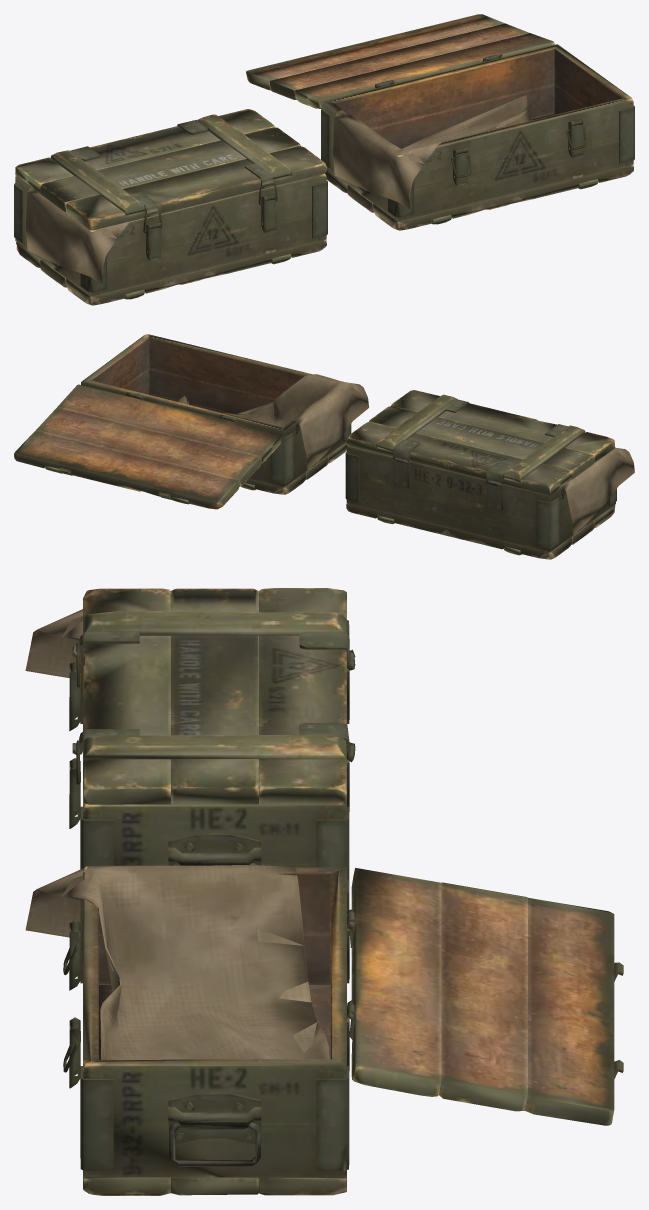
The model's file is scene-military-crate.glb.
3 views of the same model, one above another, from view 1: azimuth 30°, elevation 25°; view 2: azimuth 150°, elevation 25°; view 3: azimuth 270°, elevation 25° (orthographic). The views are drawn at different scales.
Visible parts, largest first — view 1: old_military_crate_lid_a; view 2: old_military_crate_lid_a; view 3: old_military_crate_lid_a.
Boxes of the visible parts, bbox=[...] form: old_military_crate_lid_a: bbox=[14, 14, 634, 305]; old_military_crate_lid_a: bbox=[14, 334, 634, 559]; old_military_crate_lid_a: bbox=[25, 588, 623, 1195].
Size of the model in its own units: 1.81 by 0.3009 by 0.9744.
1 material, 1 textured.
